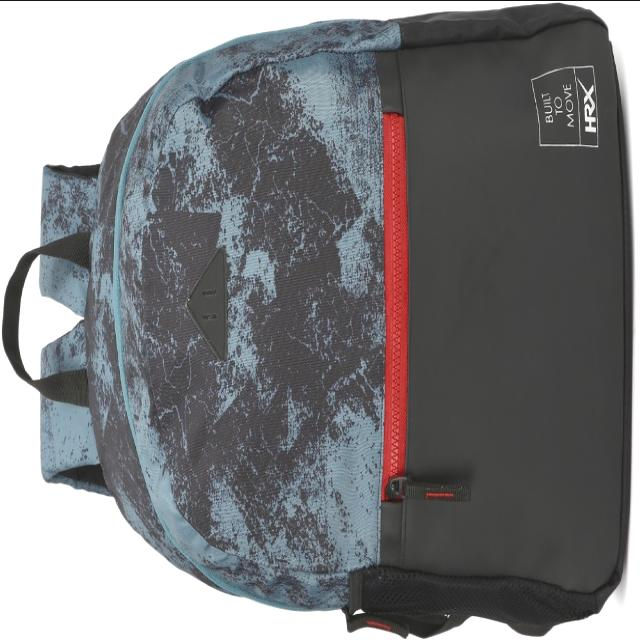backpack: (3, 5, 633, 639)
